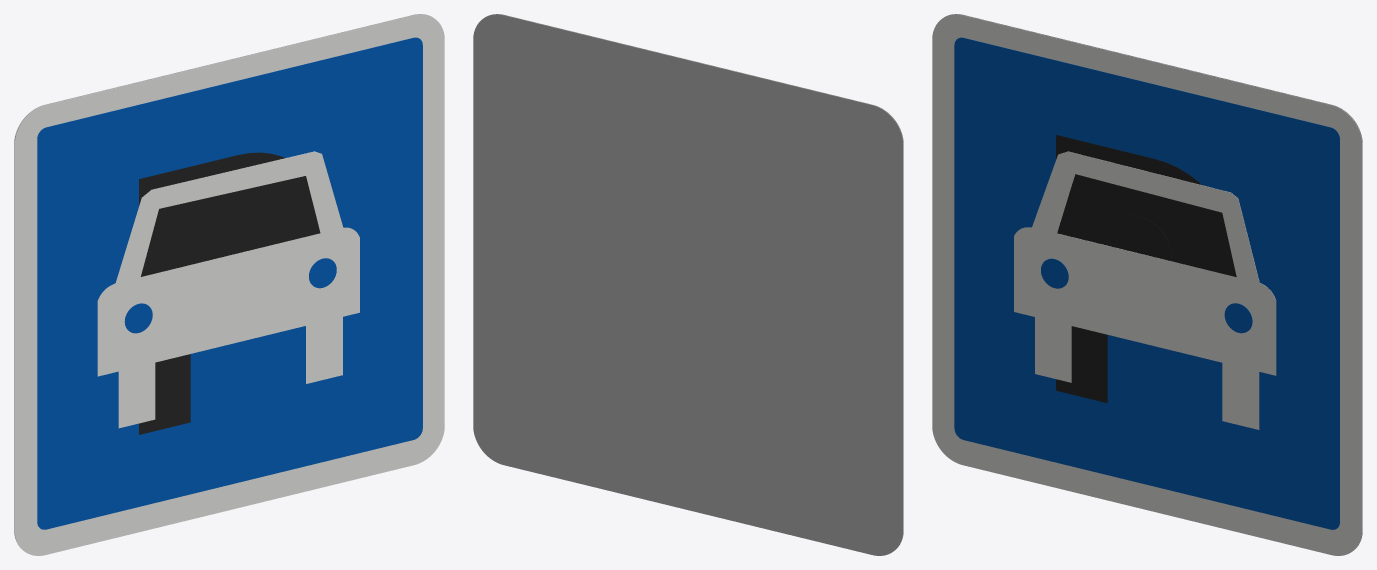
3 renders of one model, left to right at view 1: azimuth 30°, elevation 25°; view 2: azimuth 150°, elevation 25°; view 3: azimuth 330°, elevation 25°, orthographic.
Parts seen in each view (by area): view 1: C107_p01, C107_p00, C107_p04, C107_p02, C107_p03, C107_dos, C107_p06, C107_p05; view 2: C107_dos, C107_p00; view 3: C107_p01, C107_p00, C107_p04, C107_p02, C107_p03, C107_dos, C107_p06, C107_p05.
Boxes of the visible parts, left/top/right/bottom form: C107_p01: left=37, top=37, right=422, bottom=529; C107_p00: left=14, top=14, right=444, bottom=555; C107_p04: left=97, top=151, right=359, bottom=428; C107_p02: left=139, top=152, right=320, bottom=434; C107_p03: left=193, top=219, right=255, bottom=263; C107_dos: left=14, top=14, right=431, bottom=547; C107_p06: left=309, top=258, right=336, bottom=288; C107_p05: left=124, top=303, right=152, bottom=333; C107_dos: left=473, top=14, right=903, bottom=555; C107_p00: left=486, top=14, right=903, bottom=547; C107_p01: left=954, top=37, right=1339, bottom=529; C107_p00: left=932, top=14, right=1362, bottom=555; C107_p04: left=1014, top=151, right=1276, bottom=429; C107_p02: left=1056, top=135, right=1236, bottom=402; C107_p03: left=1110, top=209, right=1171, bottom=261; C107_dos: left=945, top=14, right=1362, bottom=547; C107_p06: left=1224, top=303, right=1252, bottom=333; C107_p05: left=1041, top=258, right=1068, bottom=288.
Bounding box in the file's own units: 0.7 × 0.6999 × 0.0043.
